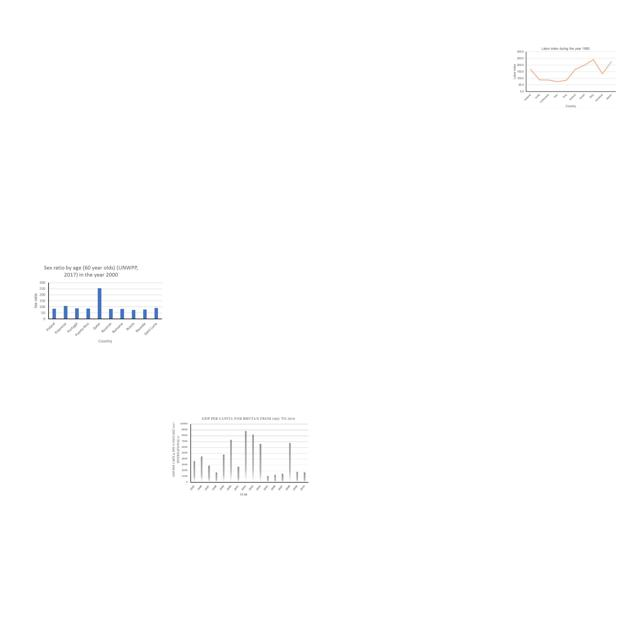Graph: (170, 415, 310, 497), (31, 262, 165, 345), (513, 46, 618, 108)
